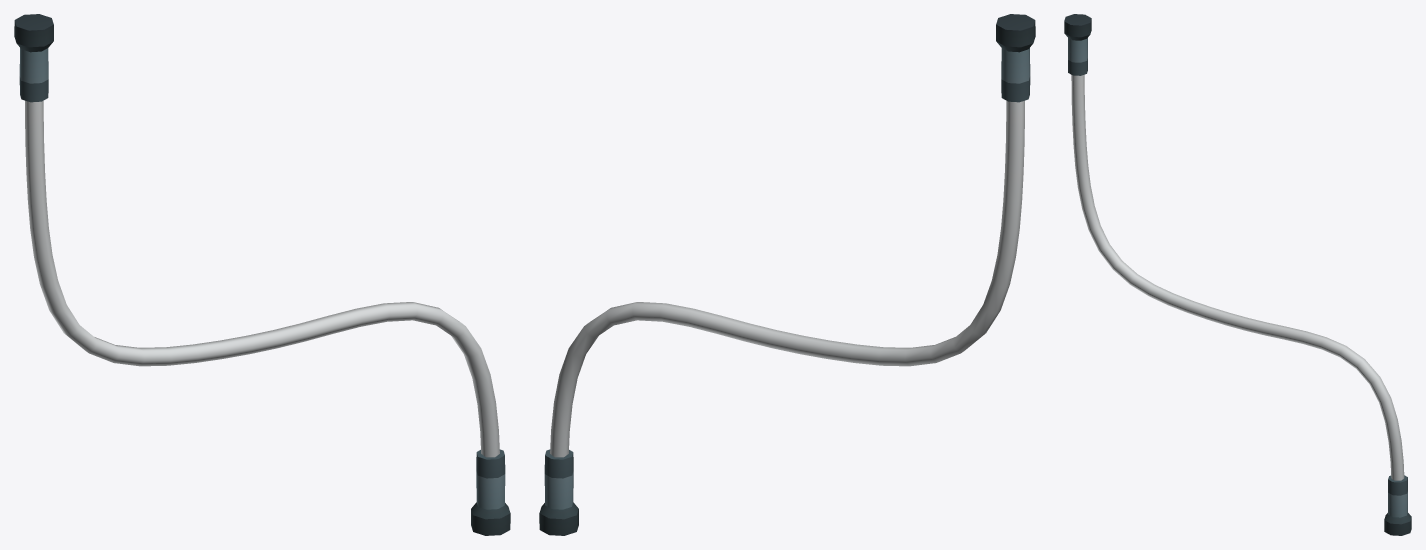
Rendered from Cable_type_C_010.fbx.
3 views of the same model, side by side, from view 1: azimuth 30°, elevation 25°; view 2: azimuth 150°, elevation 25°; view 3: azimuth 330°, elevation 25° (orthographic). The views are drawn at different scales.
Parts seen in each view (by area): view 1: Cable_type_C_010; view 2: Cable_type_C_010; view 3: Cable_type_C_010.
Boxes of the visible parts, box(x1,y1,x2,y2) form: Cable_type_C_010: box(14, 14, 510, 535); Cable_type_C_010: box(539, 14, 1035, 535); Cable_type_C_010: box(1064, 14, 1411, 535).
Bounding box in the file's own units: 109 × 7.83 × 131.
